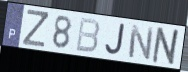8: (52, 14, 73, 51)
B: (74, 16, 101, 55)
J: (104, 23, 126, 57)
N: (150, 26, 183, 67), (127, 24, 155, 62)
Z: (21, 8, 50, 49)
